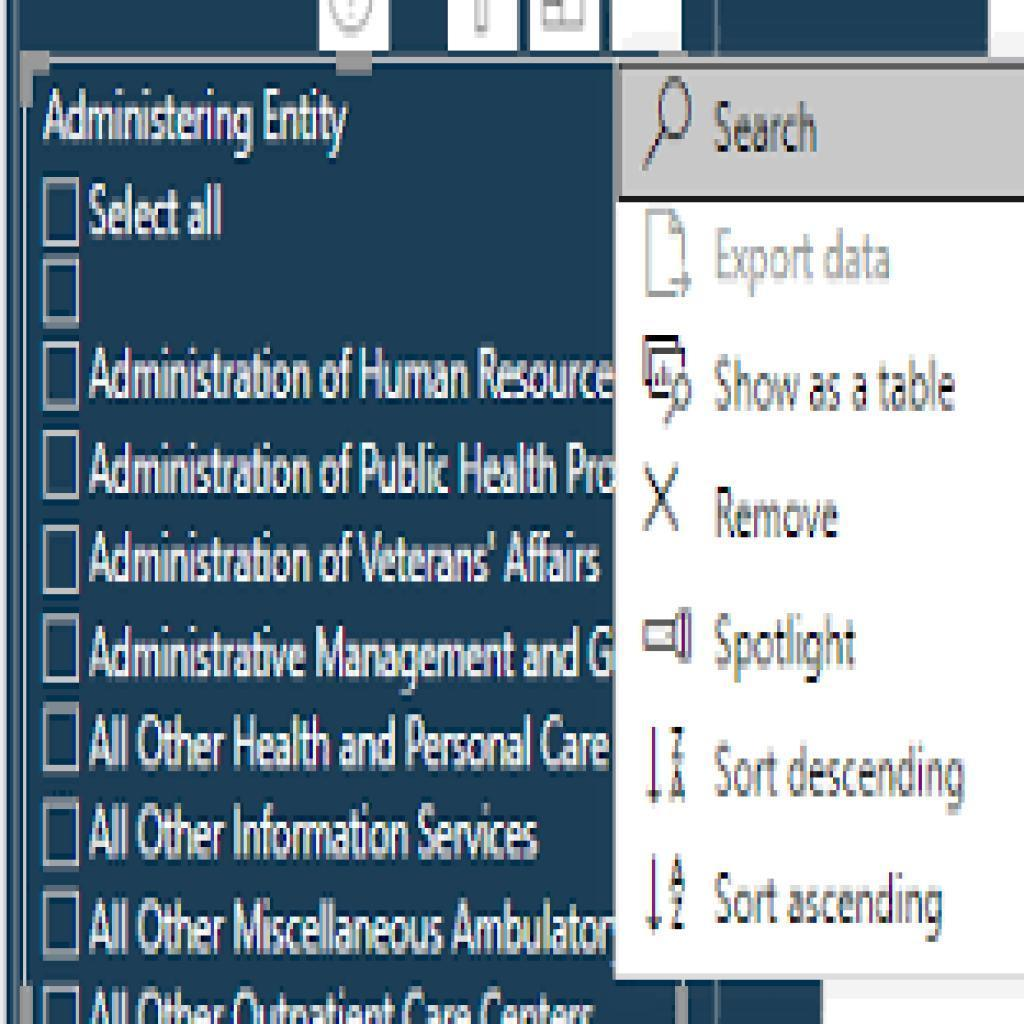checkbox: (43, 881, 84, 960), (42, 614, 84, 686), (43, 524, 83, 599), (43, 342, 85, 413), (42, 801, 83, 869), (43, 694, 80, 768), (44, 431, 81, 501), (46, 177, 83, 246), (45, 255, 81, 324)
icon: (631, 329, 706, 431), (635, 206, 700, 304), (642, 74, 698, 179), (642, 717, 697, 818), (637, 845, 688, 946), (637, 455, 693, 543), (635, 607, 697, 677)
input: (623, 71, 1024, 199)
